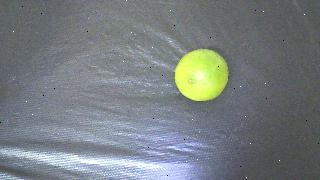LOCAL: (175, 49, 229, 101)
